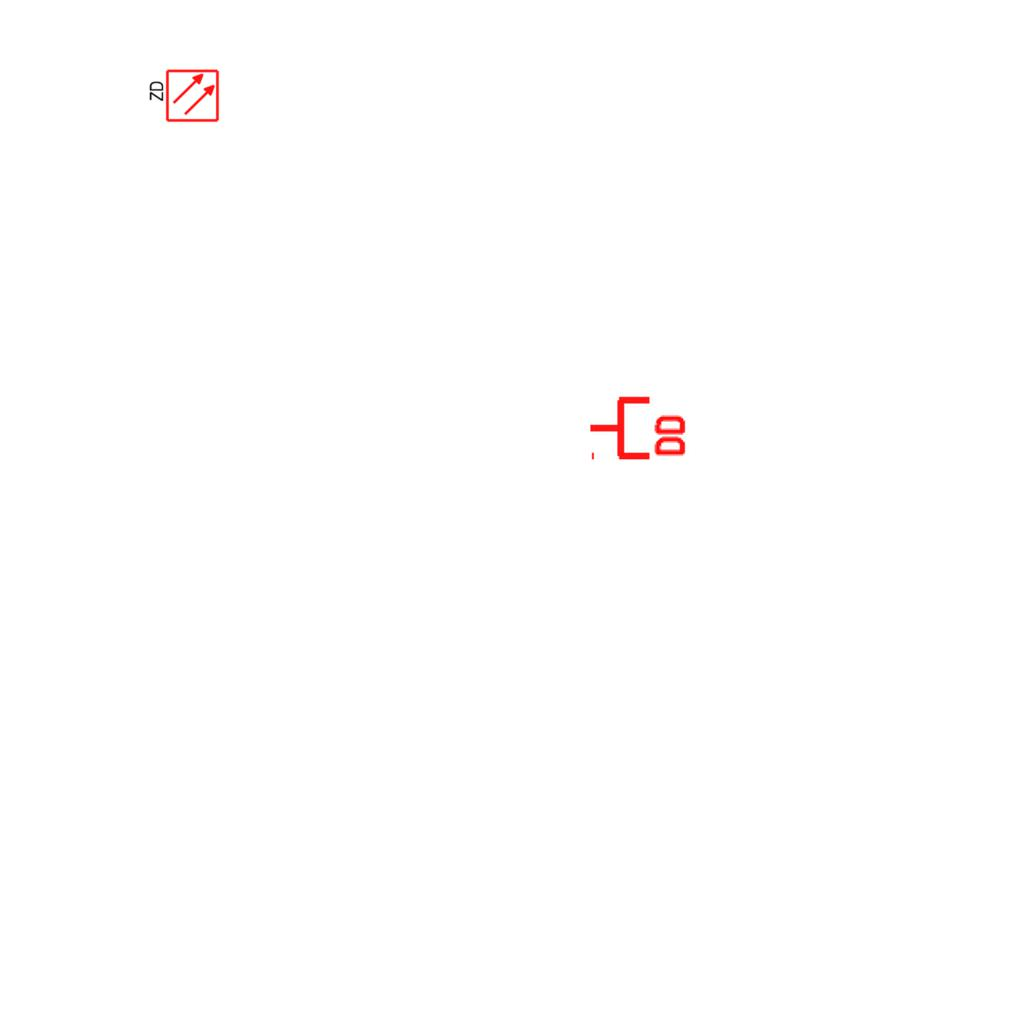Datenanschluss_zweifach: (587, 392, 690, 461)
ZD_Melder_in_Zwischendecke_mit_Revisionsoeffnung_mind_40_x_40_cm: (146, 68, 220, 125)
